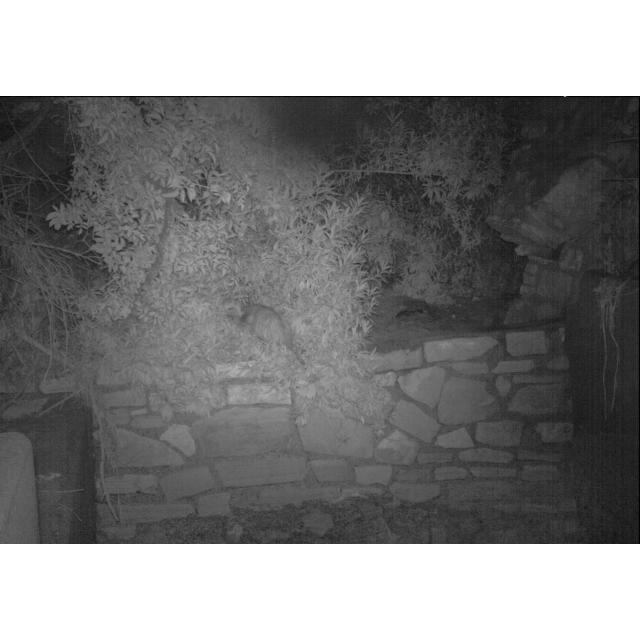animals: (234, 298, 300, 359)
